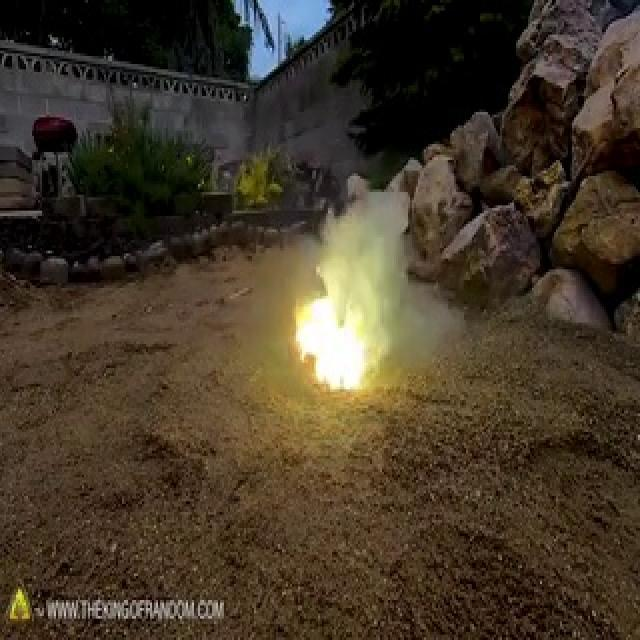fire: (283, 235, 363, 398)
